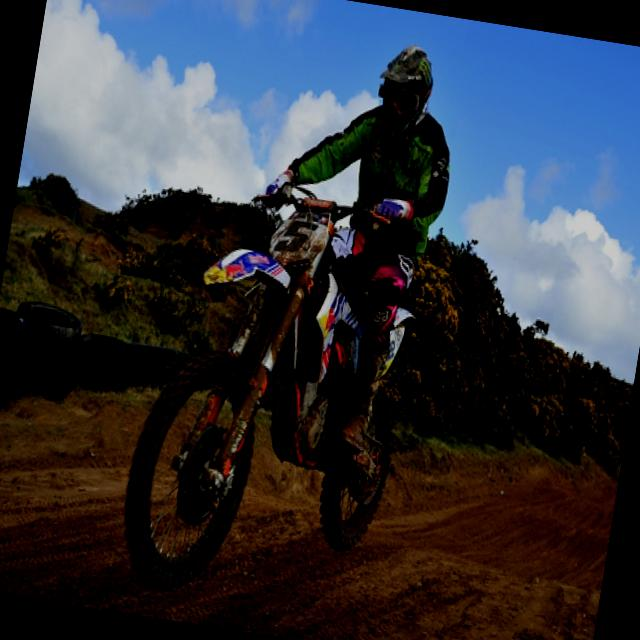Vehicle: (111, 166, 434, 625)
